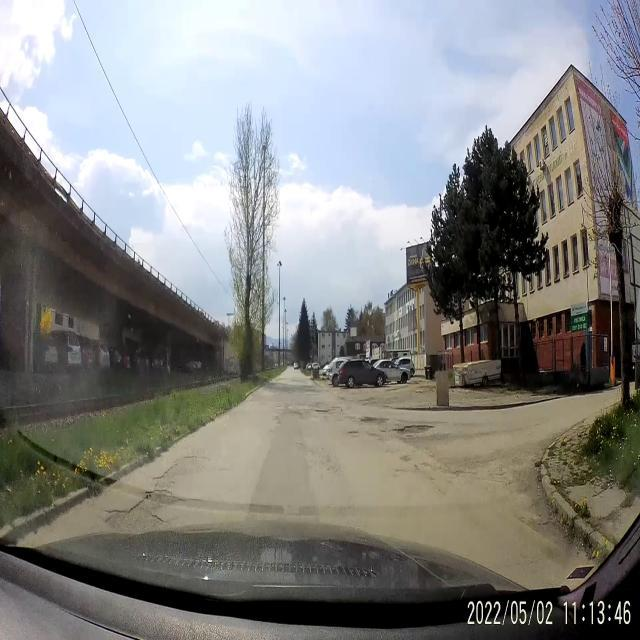Pothole: (106, 484, 182, 528), (160, 451, 210, 481), (394, 415, 436, 440), (316, 401, 344, 421), (360, 412, 390, 428), (348, 428, 360, 440)
